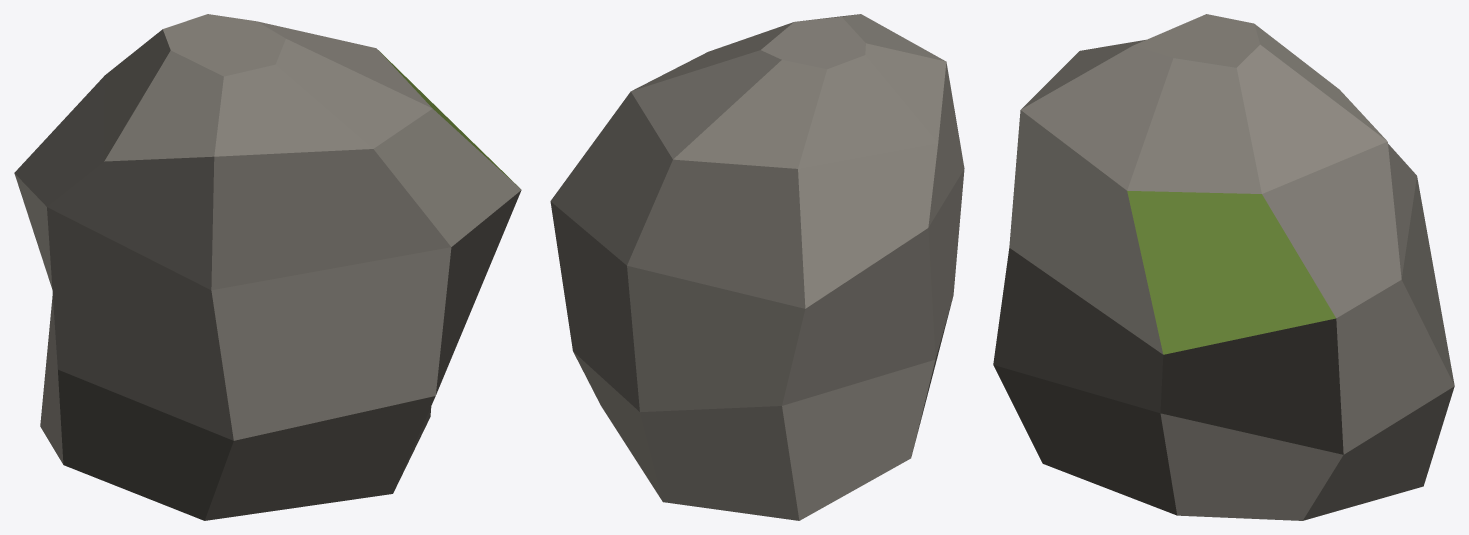
The model's file is rock_a.glb.
The picture shows the model from 3 angles, left to right: view 1: azimuth 30°, elevation 25°; view 2: azimuth 150°, elevation 25°; view 3: azimuth 270°, elevation 25°; orthographic projection. The views are drawn at different scales.
Parts seen in each view (by area): view 1: rock_a; view 2: rock_a; view 3: rock_a.
Part boxes in pixels (bbox=[...]): rock_a: bbox=[14, 14, 521, 520]; rock_a: bbox=[550, 14, 964, 520]; rock_a: bbox=[993, 14, 1454, 520].
Bounding box in the file's own units: 0.5661 × 0.5701 × 0.5659.
